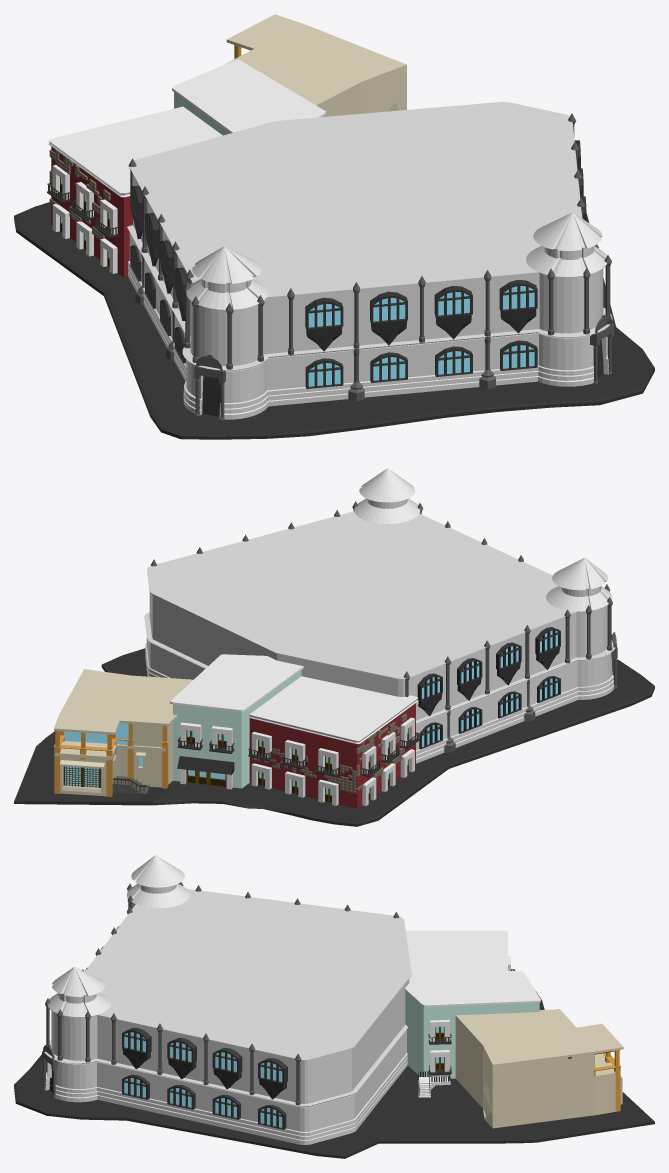
Rendered from building.glb.
The picture shows the model from 3 angles, top to bottom: view 1: azimuth 30°, elevation 25°; view 2: azimuth 150°, elevation 25°; view 3: azimuth 270°, elevation 25°; orthographic projection. The views are drawn at different scales.
Visible parts, largest first — view 1: cas_blanca, suelo, caa_roja, casa_amarilla, casa_azul; view 2: cas_blanca, caa_roja, suelo, casa_amarilla, casa_azul; view 3: cas_blanca, casa_amarilla, suelo, casa_azul, caa_roja.
Part boxes in pixels (bbox=[...]): cas_blanca: bbox=[127, 101, 613, 420]; suelo: bbox=[14, 202, 654, 439]; caa_roja: bbox=[47, 106, 222, 277]; casa_amarilla: bbox=[224, 14, 406, 116]; casa_azul: bbox=[172, 59, 326, 135]; cas_blanca: bbox=[144, 468, 617, 763]; caa_roja: bbox=[248, 676, 419, 808]; suelo: bbox=[14, 648, 654, 826]; casa_amarilla: bbox=[54, 669, 193, 797]; casa_azul: bbox=[170, 654, 303, 789]; cas_blanca: bbox=[41, 855, 411, 1144]; casa_amarilla: bbox=[455, 1009, 623, 1128]; suelo: bbox=[14, 991, 654, 1158]; casa_azul: bbox=[404, 971, 540, 1097]; caa_roja: bbox=[406, 930, 514, 970].
Size of the model in its own units: 187 by 52.83 by 246.
